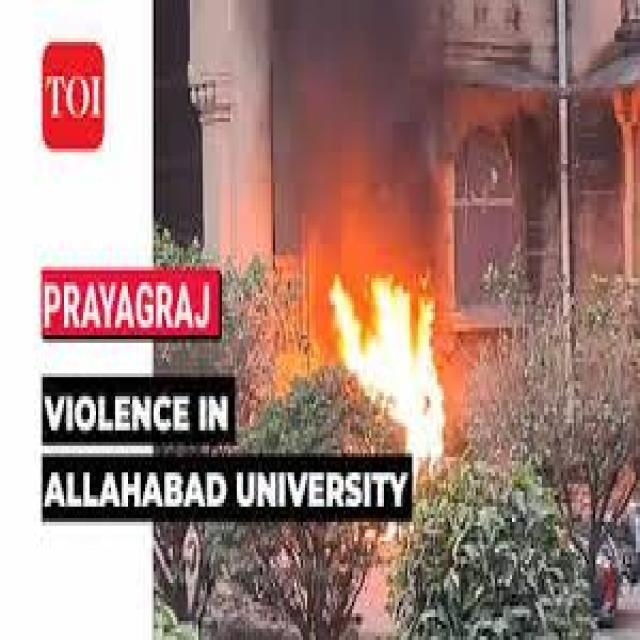Fire: (306, 188, 449, 361), (328, 267, 446, 453), (411, 428, 429, 510)
Smoke: (272, 1, 442, 192), (264, 114, 307, 262)
